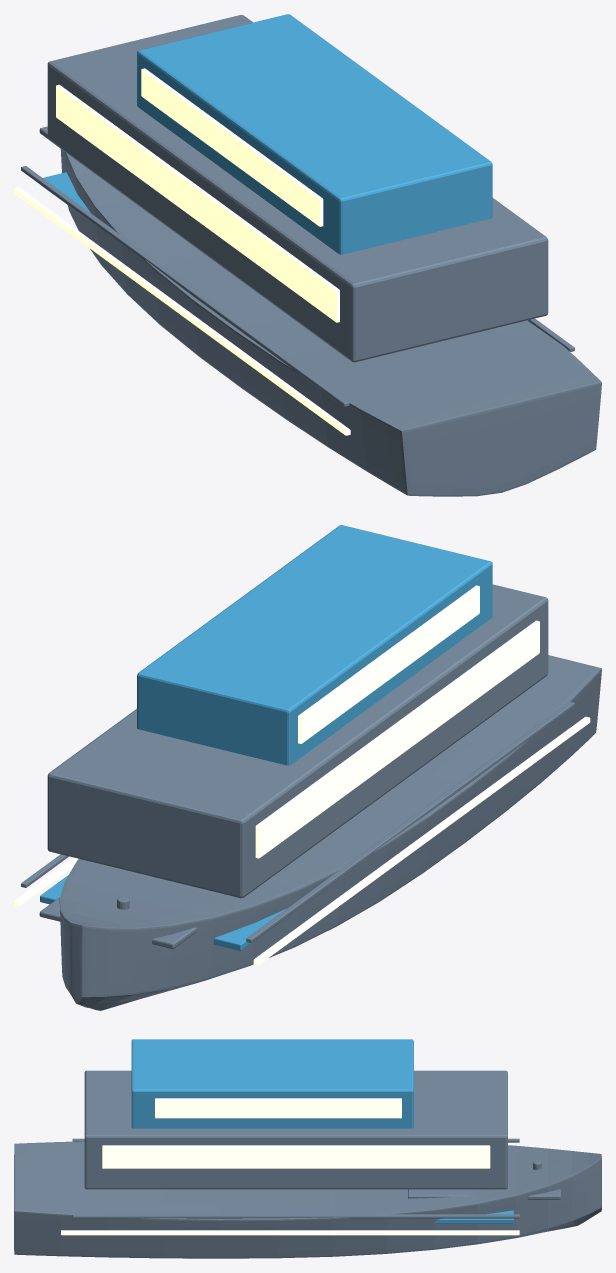
The model's file is traffic_ferry.glb.
3 views of the same model, one above another, from view 1: azimuth 30°, elevation 25°; view 2: azimuth 150°, elevation 25°; view 3: azimuth 270°, elevation 25° (orthographic). The views are drawn at different scales.
Parts seen in each view (by area): view 1: Ferry_Hull, LowerCabin, UpperObservationDeck, LowerWindows, UpperWindows, Ferry_NeonRailL, Ferry_GunwaleTrimL; view 2: Ferry_Hull, LowerCabin, UpperObservationDeck, LowerWindows, UpperWindows, Ferry_NeonRailL, Ferry_GunwaleTrimL, Ferry_MainDeck, Ferry_ForeDeck; view 3: Ferry_Hull, LowerCabin, UpperObservationDeck, LowerWindows, UpperWindows, Ferry_NeonRailR, Ferry_GunwaleTrimR, Ferry_ForeDeck, Ferry_MainDeck.
Part boxes in pixels (<box>): Ferry_Hull: <box>60,149,601,496</box>; LowerCabin: <box>47,15,548,362</box>; UpperObservationDeck: <box>137,14,492,254</box>; LowerWindows: <box>56,84,339,322</box>; UpperWindows: <box>141,68,323,226</box>; Ferry_NeonRailL: <box>14,187,350,435</box>; Ferry_GunwaleTrimL: <box>21,166,349,406</box>; Ferry_Hull: <box>59,655,601,1010</box>; LowerCabin: <box>47,584,548,898</box>; UpperObservationDeck: <box>137,525,492,765</box>; LowerWindows: <box>255,620,539,858</box>; UpperWindows: <box>298,585,479,743</box>; Ferry_NeonRailL: <box>253,716,590,965</box>; Ferry_GunwaleTrimL: <box>246,702,574,942</box>; Ferry_MainDeck: <box>40,875,296,950</box>; Ferry_ForeDeck: <box>39,897,197,948</box>; Ferry_Hull: <box>14,1141,601,1258</box>; LowerCabin: <box>84,1070,507,1189</box>; UpperObservationDeck: <box>131,1039,413,1128</box>; LowerWindows: <box>102,1145,490,1168</box>; UpperWindows: <box>155,1098,401,1118</box>; Ferry_NeonRailR: <box>61,1230,519,1235</box>; Ferry_GunwaleTrimR: <box>72,1214,519,1218</box>; Ferry_ForeDeck: <box>408,1189,560,1199</box>; Ferry_MainDeck: <box>435,1210,513,1223</box>.
Size of the model in its own units: 5.31 by 5.44 by 16.
